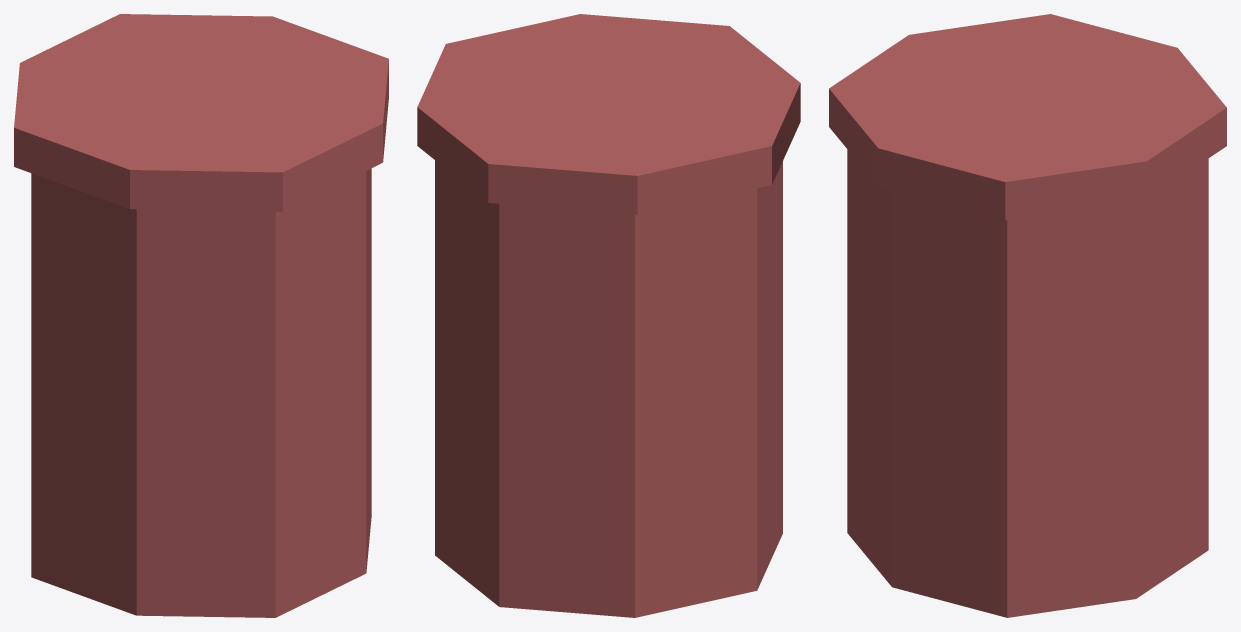
Rendered from Kitchen_Jar2.fbx.
3 views of the same model, side by side, from view 1: azimuth 30°, elevation 25°; view 2: azimuth 150°, elevation 25°; view 3: azimuth 270°, elevation 25° (orthographic). The views are drawn at different scales.
Parts seen in each view (by area): view 1: Kitchen_Jar2; view 2: Kitchen_Jar2; view 3: Kitchen_Jar2.
Part boxes in pixels (x1,y1,x2,y2): Kitchen_Jar2: [14, 14, 388, 617]; Kitchen_Jar2: [417, 14, 800, 617]; Kitchen_Jar2: [829, 14, 1226, 617].
Bounding box in the file's own units: 29.08 × 35.75 × 29.08.
